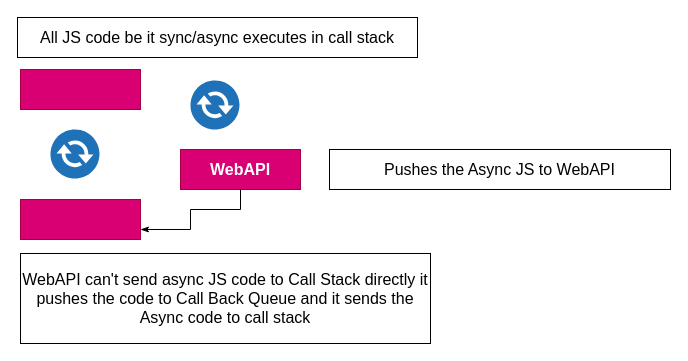
The diagram is 688 pixels wide and 361 high, and some of its shapes have lost their labels. Here are the shapes that lost their labels. From the top down, the box of each, then its label:
(20, 68, 140, 110): Call Stack
(20, 198, 140, 240): Call Back Queue
